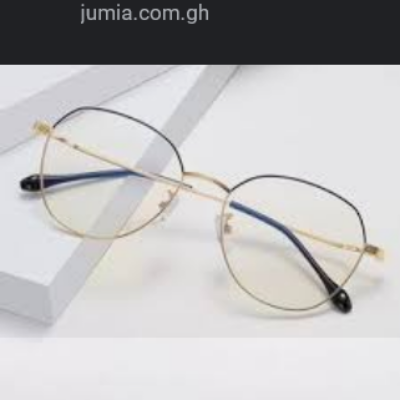glasses: (15, 103, 395, 323)
